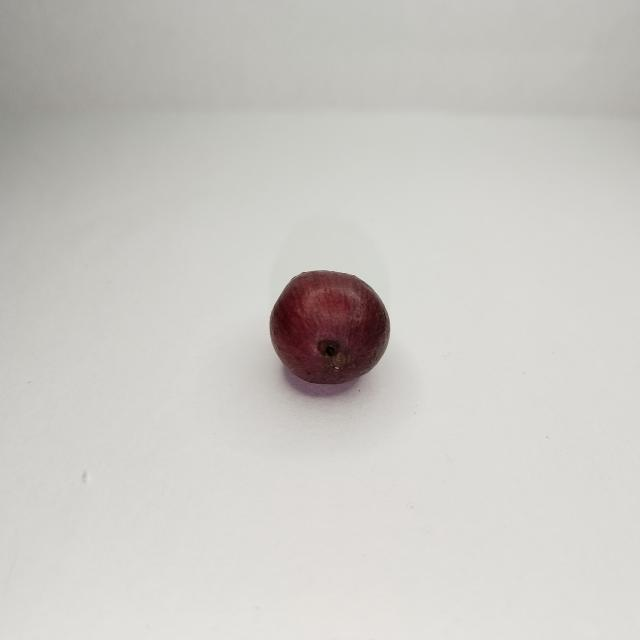Infectado: (269, 271, 390, 387)
